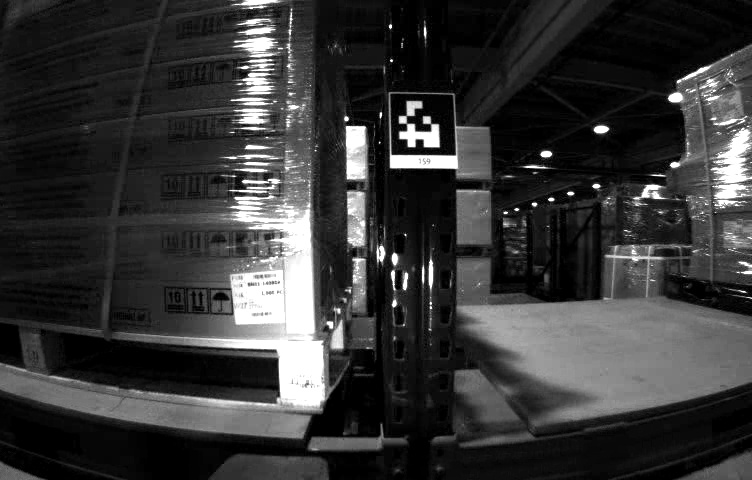True Barcode: (227, 271, 293, 328)
